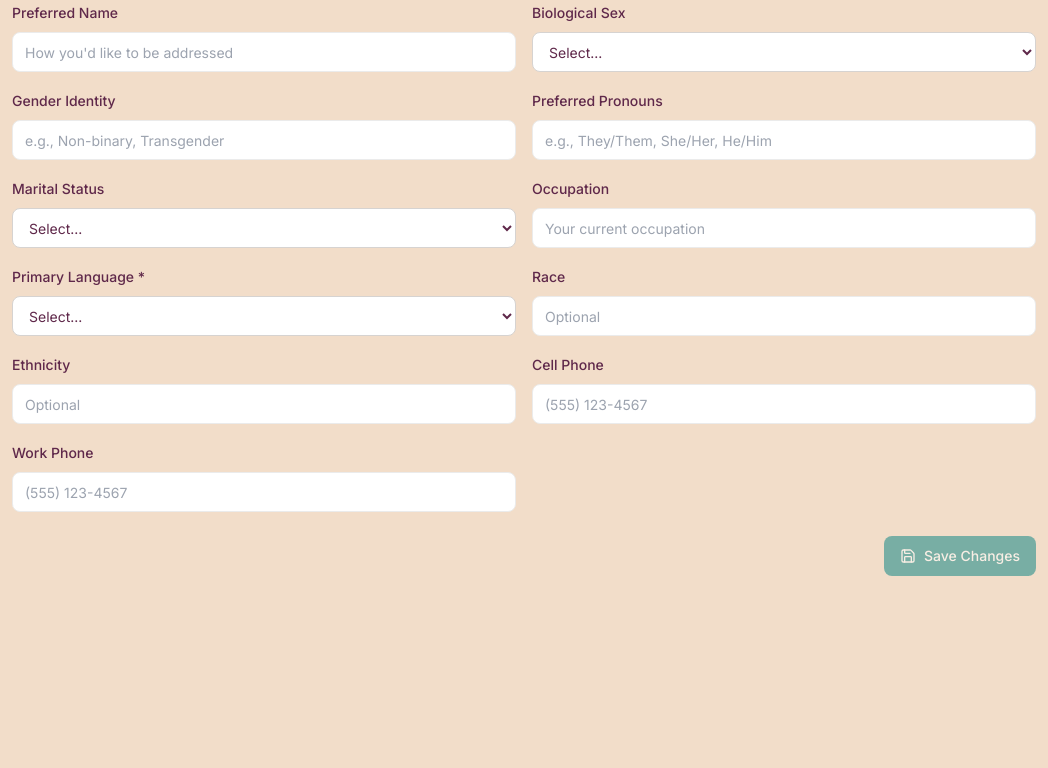
it: DemographicsForm › should enable save button when required fields are filled
Select "Male" in the dropdown labelled "Biological Sex". click: [784, 52]
box: [532, 32, 1036, 72]
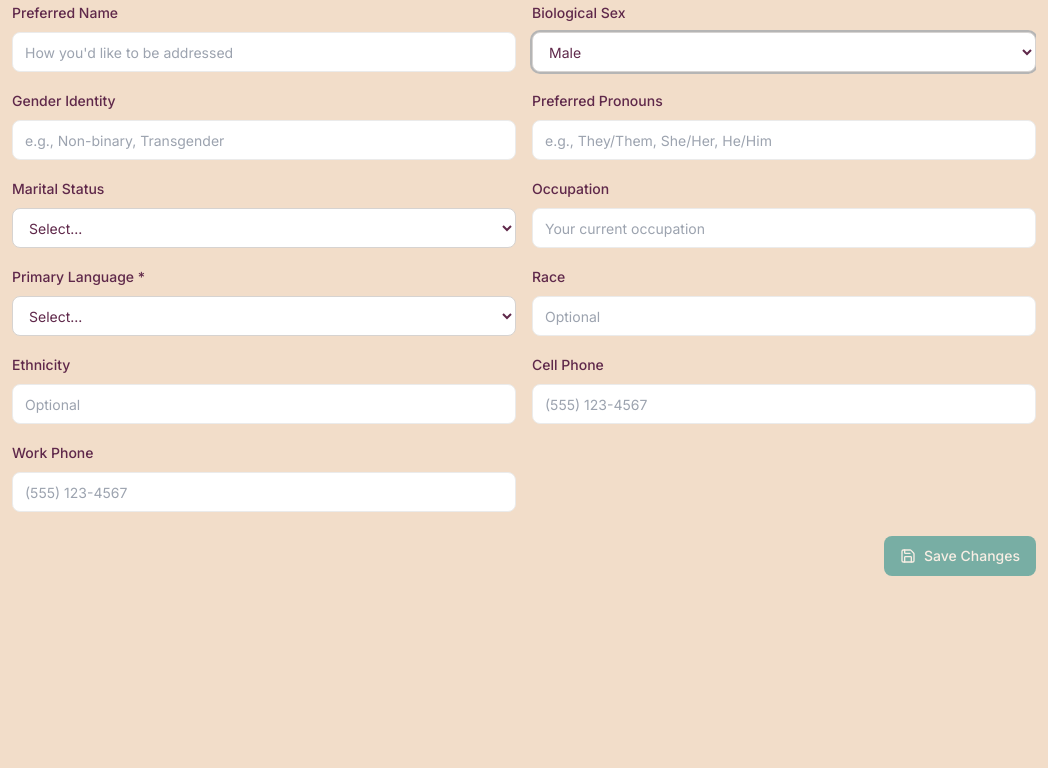
Select "English" in the dropdown labelled "Primary Language *". click: [264, 316]
box: [12, 296, 516, 336]
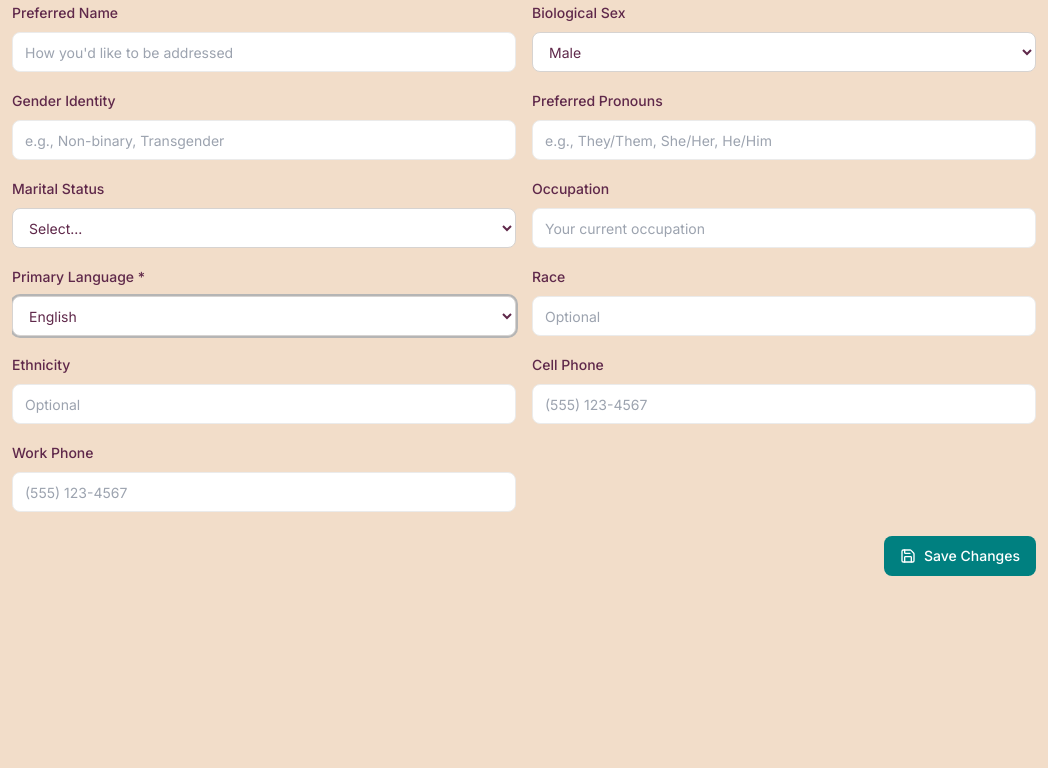
Check: the button "Save Changes" is enabled, box [884, 536, 1036, 576]
